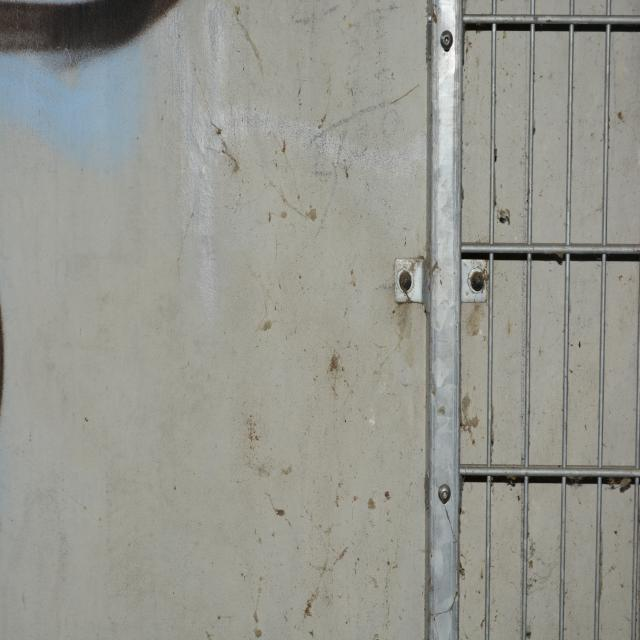corrosion: (397, 268, 415, 295), (470, 269, 486, 294)
